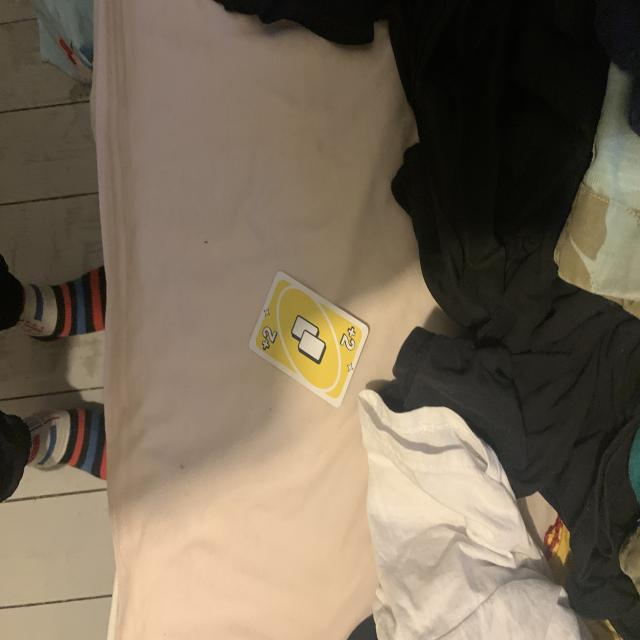lyellow-20: (259, 324, 282, 354)
